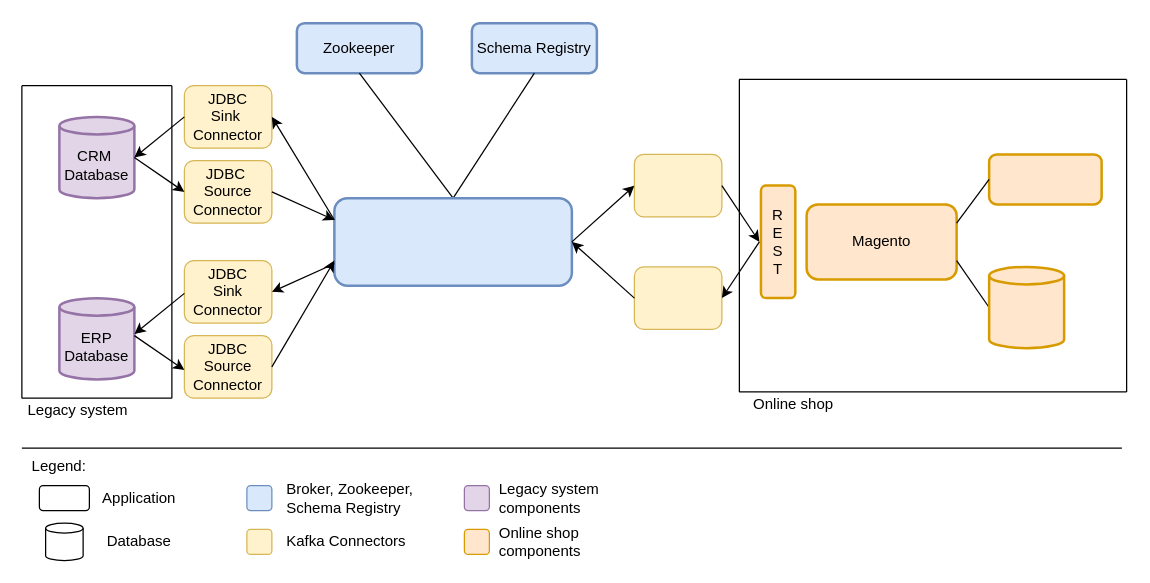
Image size: 1150x583. Some labels were removed from this diagram. Here are the shapes that lost their labels. From the top down, the centre of each, then its label:
pixel 677 185: HTTP Sink Connector
pixel 1044 178: Elasticsearch
pixel 452 241: Kafka Broker
pixel 677 297: HTTP Source Connector
pixel 1026 307: Magento Database
